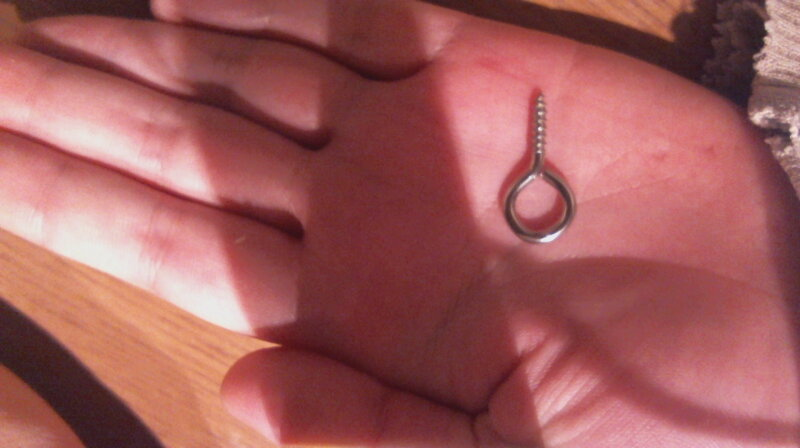O001: (497, 86, 580, 247)
